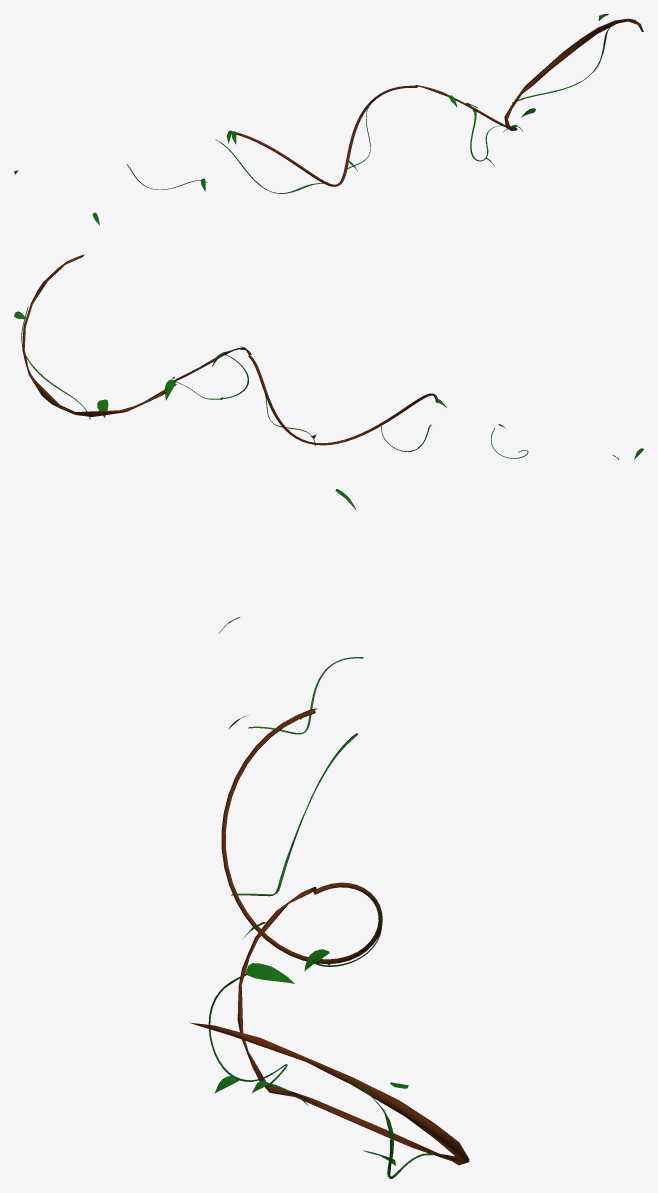
The model's file is Liane2.FBX.
3 views of the same model, one above another, from view 1: azimuth 30°, elevation 25°; view 2: azimuth 150°, elevation 25°; view 3: azimuth 270°, elevation 25° (orthographic). The views are drawn at different scales.
Visible parts, largest first — view 1: Liane Opti003, Object; view 2: Liane Opti003, Object; view 3: Liane Opti003, Object.
Part boxes in pixels (<box>): Liane Opti003: <box>415,14,643,165</box>; Object: <box>231,85,417,186</box>; Liane Opti003: <box>14,254,251,419</box>; Object: <box>248,355,438,446</box>; Liane Opti003: <box>189,886,469,1178</box>; Object: <box>221,709,382,971</box>.
Size of the model in its own units: 3.66 by 0.6168 by 0.7322.
